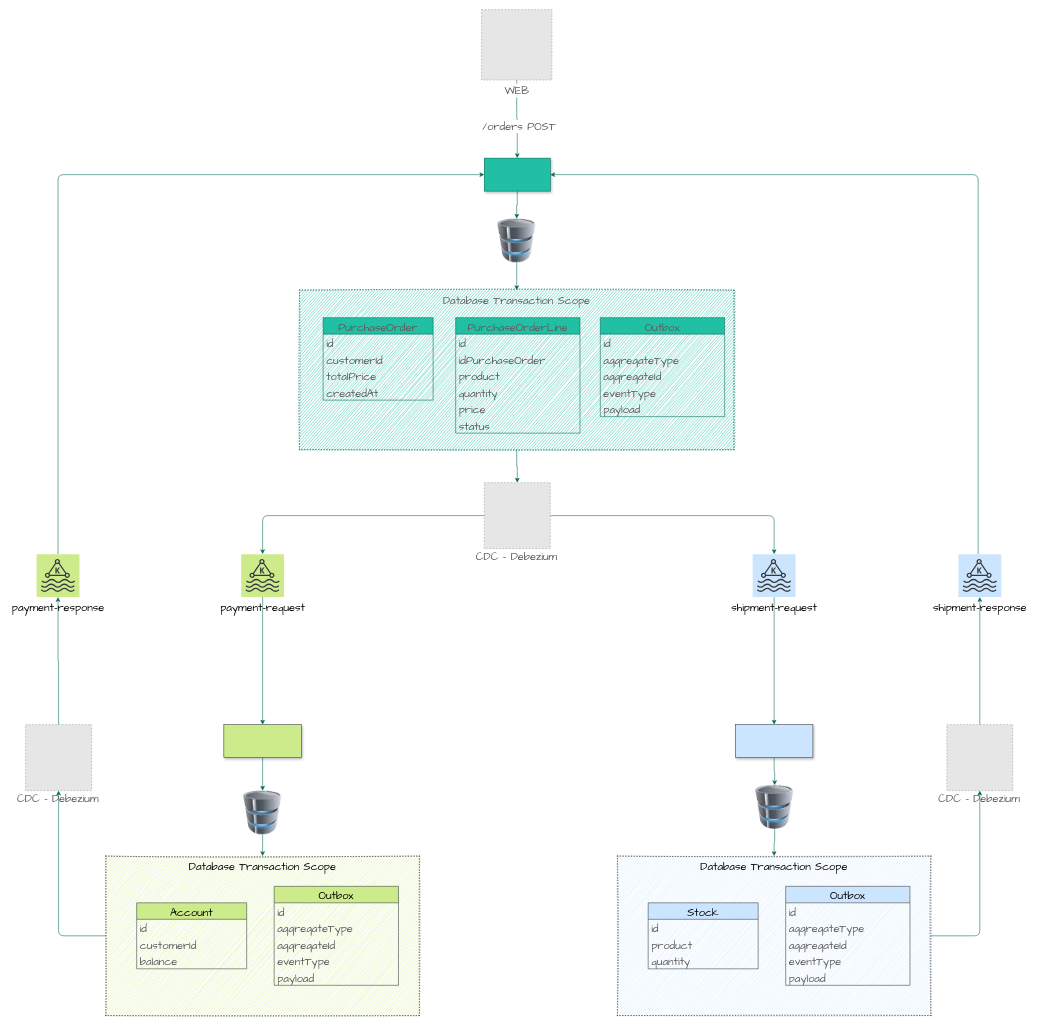
Some shapes in this 1037 by 1025 pixel diagram are drawn without their labels. Grey dashed boxes stand in for pictures. Each missing label, with the centre of its shape:
ms-order: [518,175]
ms-payment: [263,741]
ms-shipment: [774,741]
